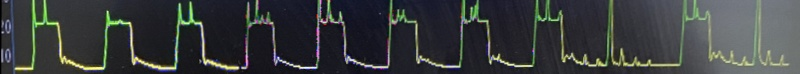hydrop_pressure: (0, 0, 800, 74)
